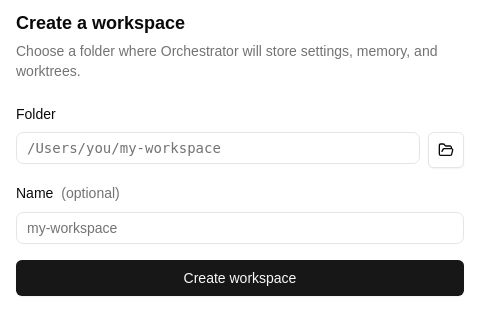
Test case: browse button populates path field
Click the button named "browse". click: (446, 150)
box: [428,132,464,168]
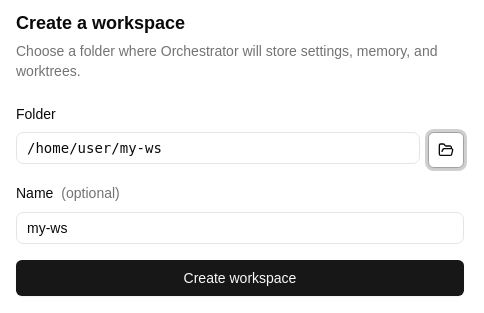
Expected: the field labelled "Folder" holds "/home/user/my-ws", [16,132,420,164]
